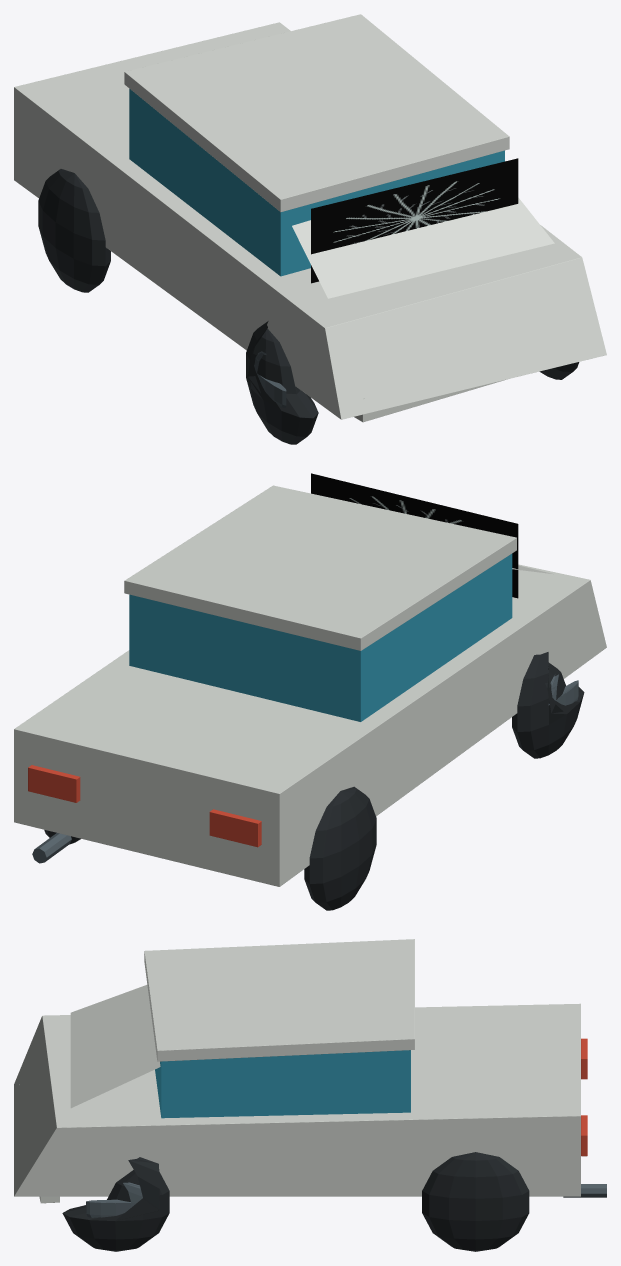
Rendered from SAF_DAMAGED_CAR_02.fbx.
The picture shows the model from 3 angles, top to bottom: view 1: azimuth 30°, elevation 25°; view 2: azimuth 150°, elevation 25°; view 3: azimuth 270°, elevation 25°; orthographic projection. The views are drawn at different scales.
Parts seen in each view (by area): view 1: SAF_DAMAGED_CAR_02; view 2: SAF_DAMAGED_CAR_02; view 3: SAF_DAMAGED_CAR_02.
Part boxes in pixels (bbox=[...]): SAF_DAMAGED_CAR_02: bbox=[14, 14, 606, 444]; SAF_DAMAGED_CAR_02: bbox=[14, 473, 606, 910]; SAF_DAMAGED_CAR_02: bbox=[14, 939, 606, 1251].
Bounding box in the file's own units: 187 × 141 × 366.
7 materials, 1 textured.
